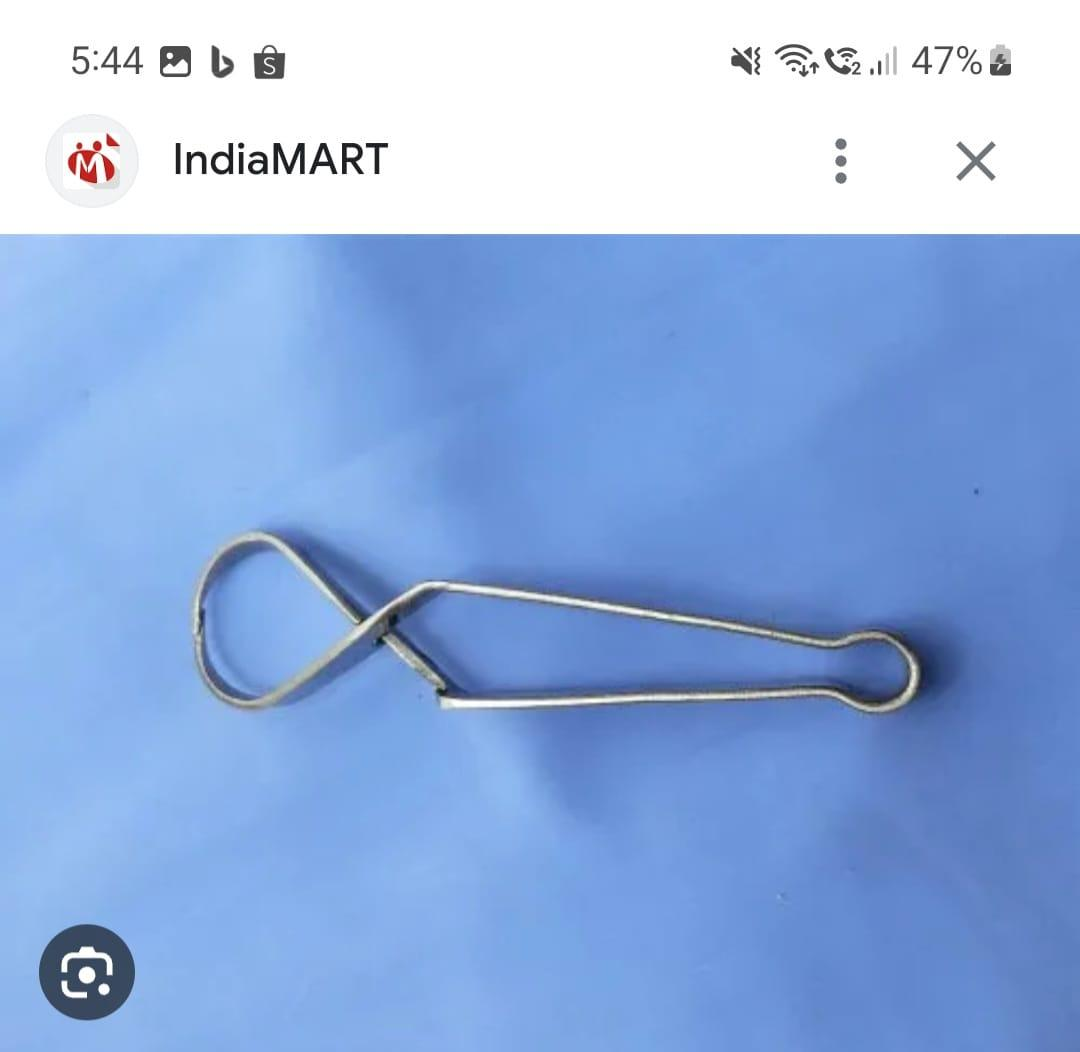Doyen Cross Action Towel Clamp: (178, 518, 927, 753)
